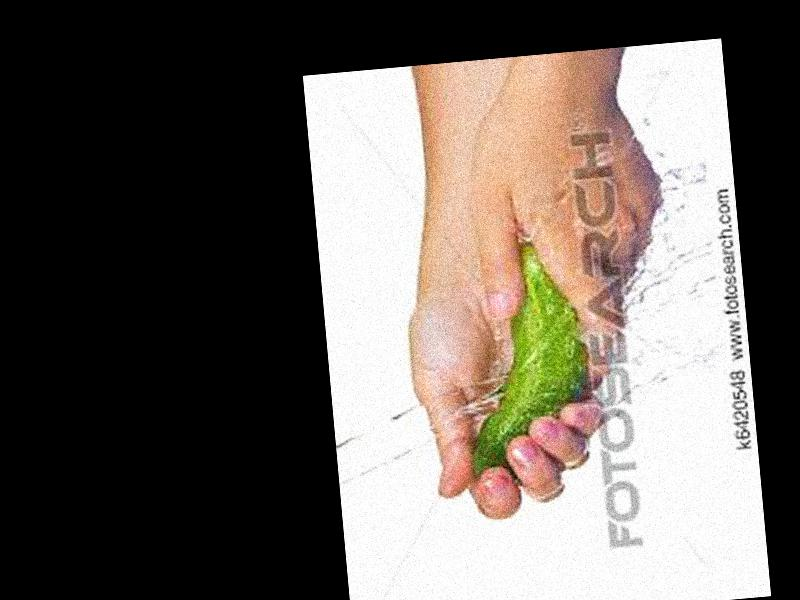Cucumber: (452, 231, 601, 479)
